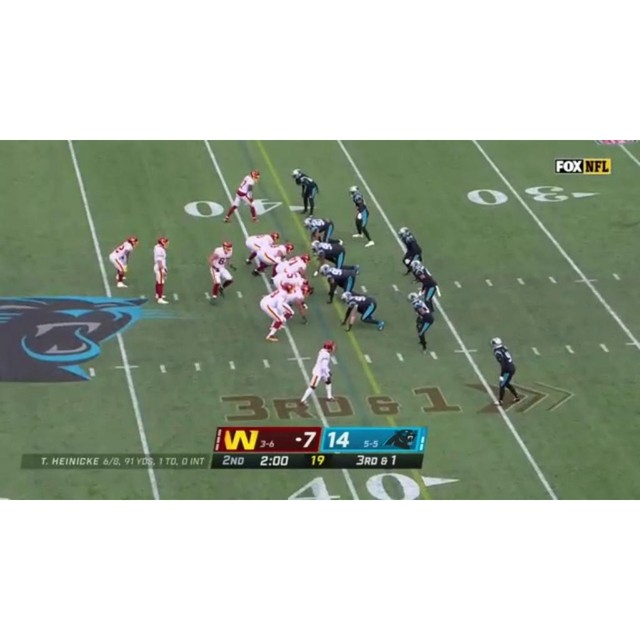american-football-player: (299, 341, 337, 407), (489, 337, 520, 406), (260, 282, 295, 342), (224, 169, 261, 223), (340, 290, 385, 332), (207, 240, 236, 304), (318, 263, 361, 305), (407, 292, 436, 352), (110, 235, 139, 289), (349, 186, 374, 246), (409, 261, 440, 309), (257, 241, 294, 278), (311, 239, 348, 276), (291, 168, 319, 216), (397, 226, 423, 277), (244, 231, 279, 266), (152, 236, 170, 304), (275, 253, 311, 282), (304, 216, 334, 245)
